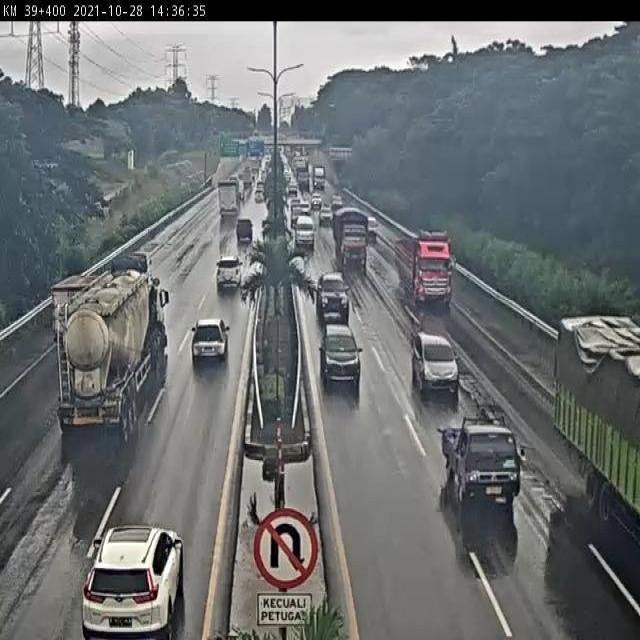big truck: (79, 245, 159, 416), (337, 207, 374, 289), (401, 239, 455, 285), (220, 183, 242, 216)
car: (96, 507, 181, 633), (444, 419, 530, 504), (188, 313, 229, 380), (323, 316, 361, 388), (413, 330, 458, 390), (216, 237, 237, 295), (319, 270, 345, 314), (237, 213, 257, 243), (299, 217, 318, 248)
